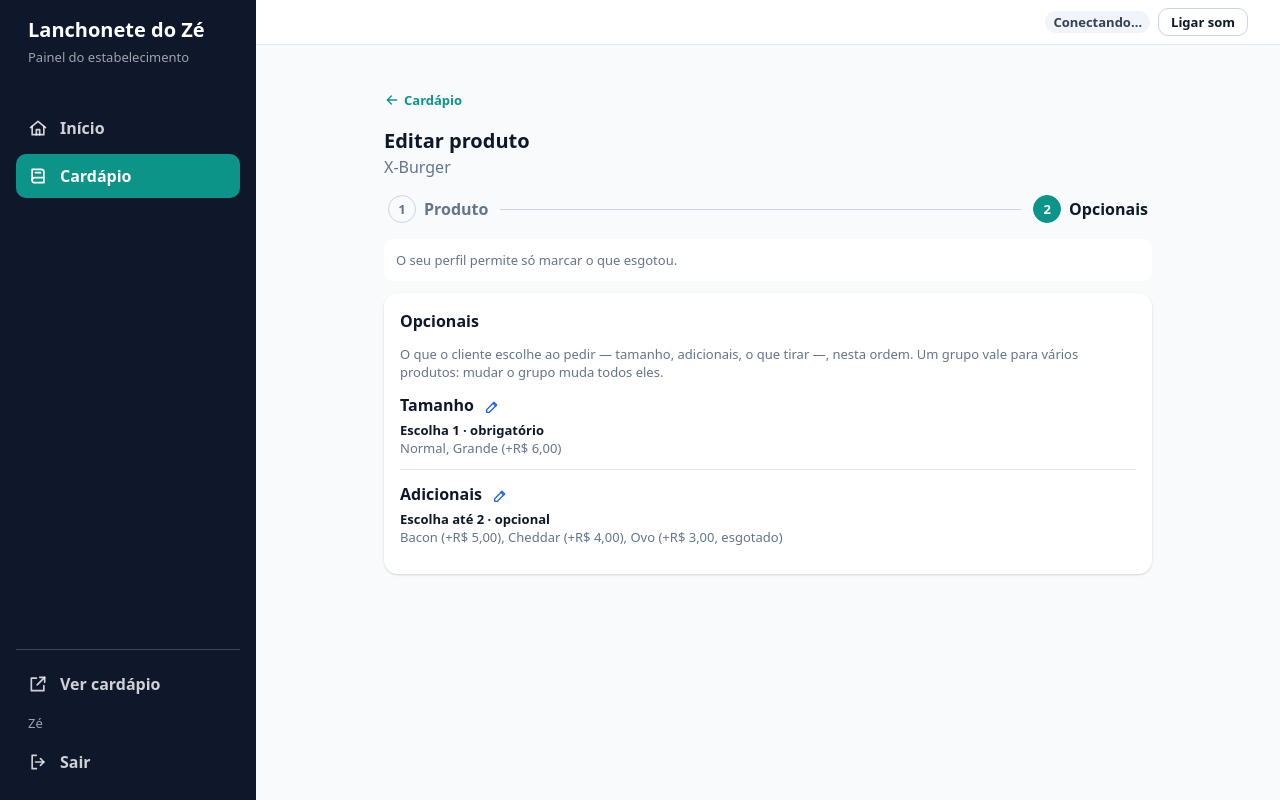
Test: o passo do produto › quem só marca o que esgotou não escolhe os opcionais do produto, mas abre um grupo
Expected: the text "Adicionais" is shown, [400,482,482,506]
Expected: the button "Salvar" is not shown
Click the button named "Editar o grupo Adicionais".
click(500, 496)  # box [486,482,514,510]
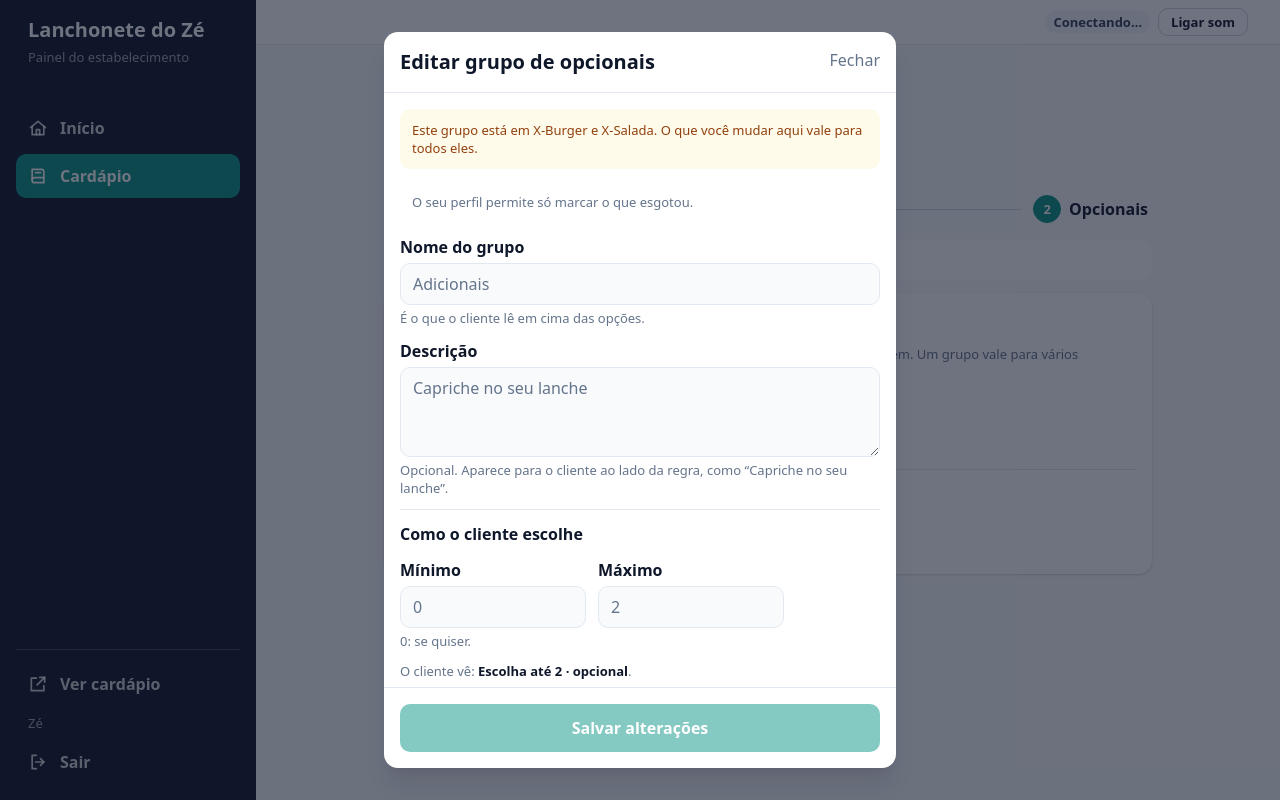
Expected: the dialog "Editar grupo de opcionais" is shown, [384,32,896,768]
